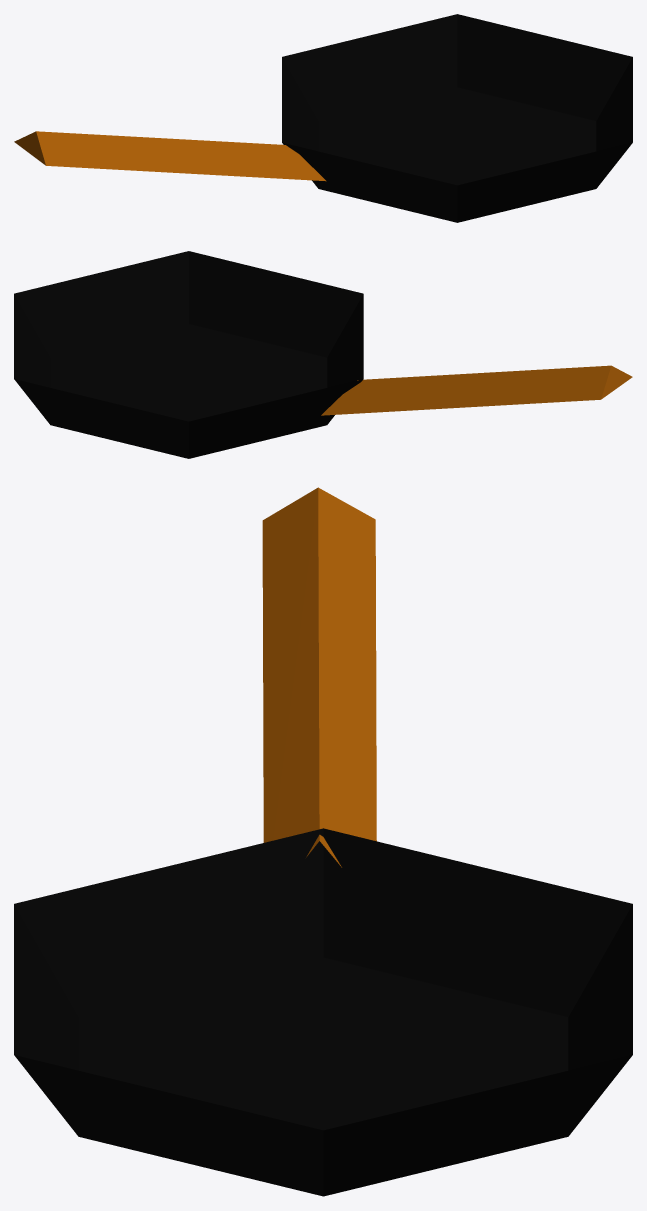
File: Pfanne_1317.glb
The picture shows the model from 3 angles, top to bottom: view 1: azimuth 30°, elevation 25°; view 2: azimuth 150°, elevation 25°; view 3: azimuth 270°, elevation 25°; orthographic projection. The views are drawn at different scales.
Parts seen in each view (by area): view 1: pCylinderShape13, pCylinderShape14; view 2: pCylinderShape13, pCylinderShape14; view 3: pCylinderShape13, pCylinderShape14.
Boxes of the visible parts, x1,y1,x2,y2 form: pCylinderShape13: [282, 14, 632, 222]; pCylinderShape14: [14, 131, 326, 181]; pCylinderShape13: [14, 251, 363, 458]; pCylinderShape14: [321, 365, 632, 415]; pCylinderShape13: [14, 828, 632, 1196]; pCylinderShape14: [262, 487, 376, 867].
Bounding box in the file's own units: 0.1034 × 0.0209 × 0.052.
